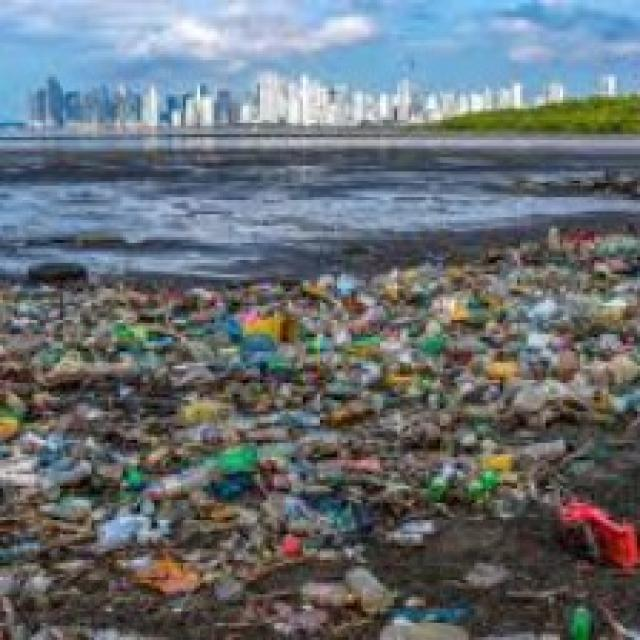heap: (64, 298, 441, 518)
plastic_bottle: (149, 460, 217, 497)
